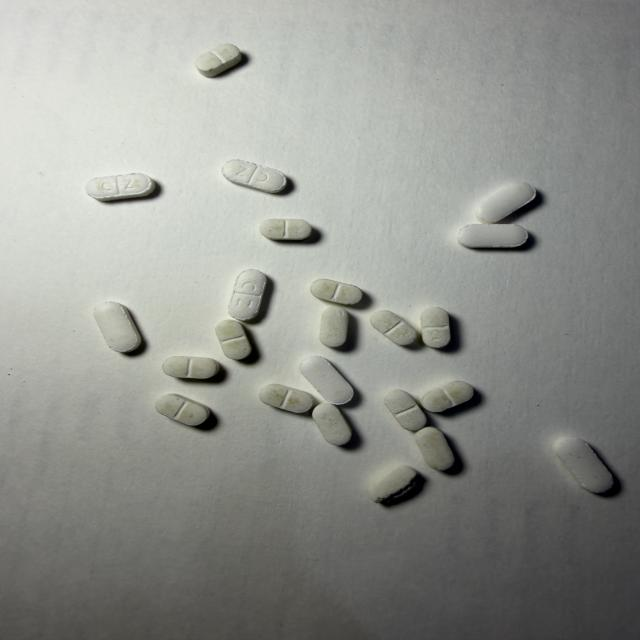pill: (554, 437, 613, 493), (300, 356, 353, 404), (476, 182, 536, 223), (94, 302, 141, 352), (222, 160, 286, 193), (86, 173, 155, 201), (229, 269, 266, 320), (370, 466, 420, 503), (156, 394, 210, 426), (384, 390, 426, 431), (312, 403, 351, 445), (416, 427, 454, 470), (458, 225, 528, 248), (422, 381, 473, 412), (371, 310, 416, 345), (259, 384, 313, 413), (195, 44, 241, 77), (216, 320, 251, 359), (311, 279, 362, 304), (421, 307, 450, 348), (163, 357, 219, 378), (320, 307, 348, 347), (260, 219, 312, 240)
